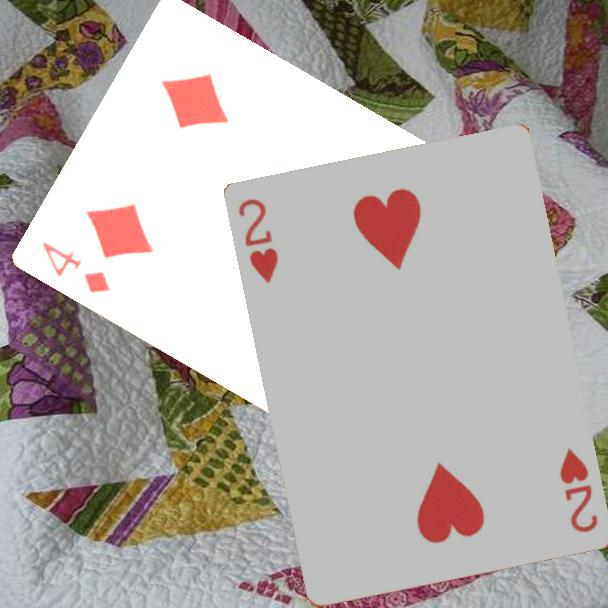d04: (39, 238, 114, 297)
h02: (235, 195, 282, 287), (556, 445, 602, 536)
